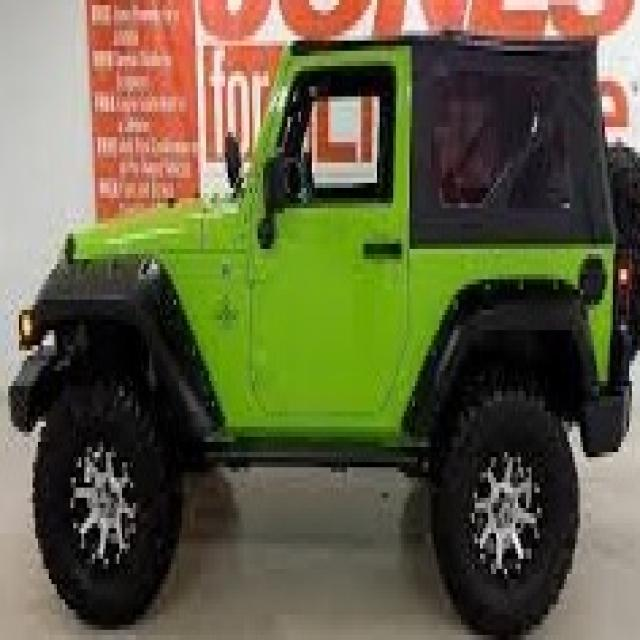green: (17, 10, 638, 640)
